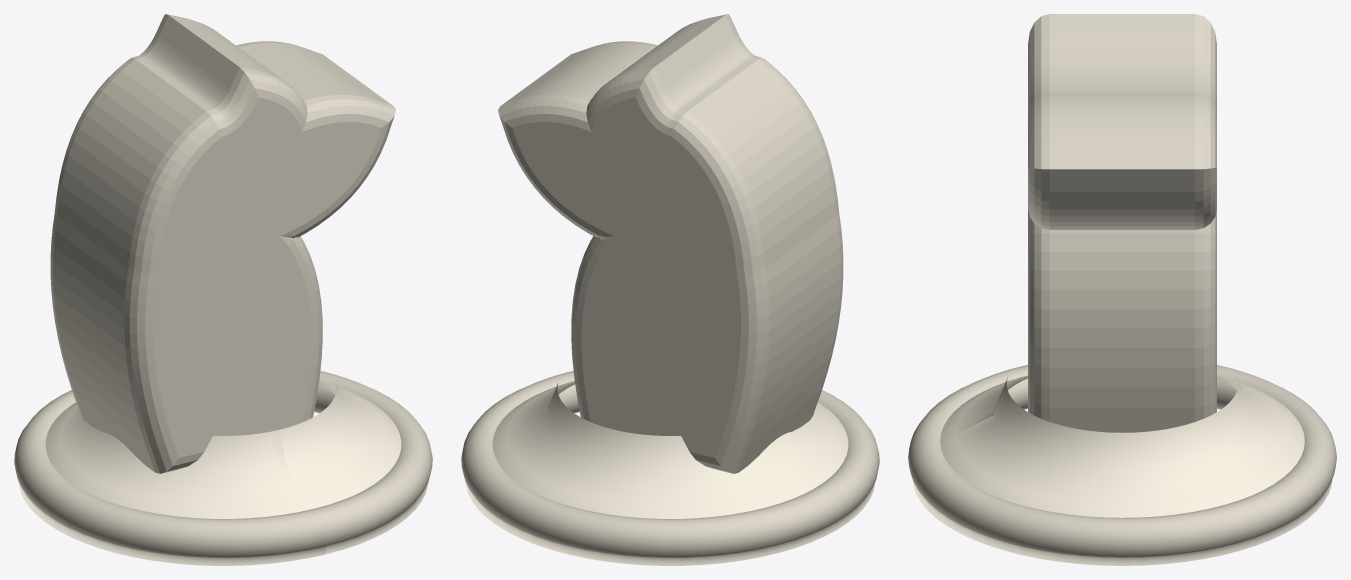
The picture shows the model from 3 angles, left to right: view 1: azimuth 30°, elevation 25°; view 2: azimuth 150°, elevation 25°; view 3: azimuth 270°, elevation 25°; orthographic projection. The views are drawn at different scales.
Bounding box in the file's own units: 1 × 1.17 × 1.
